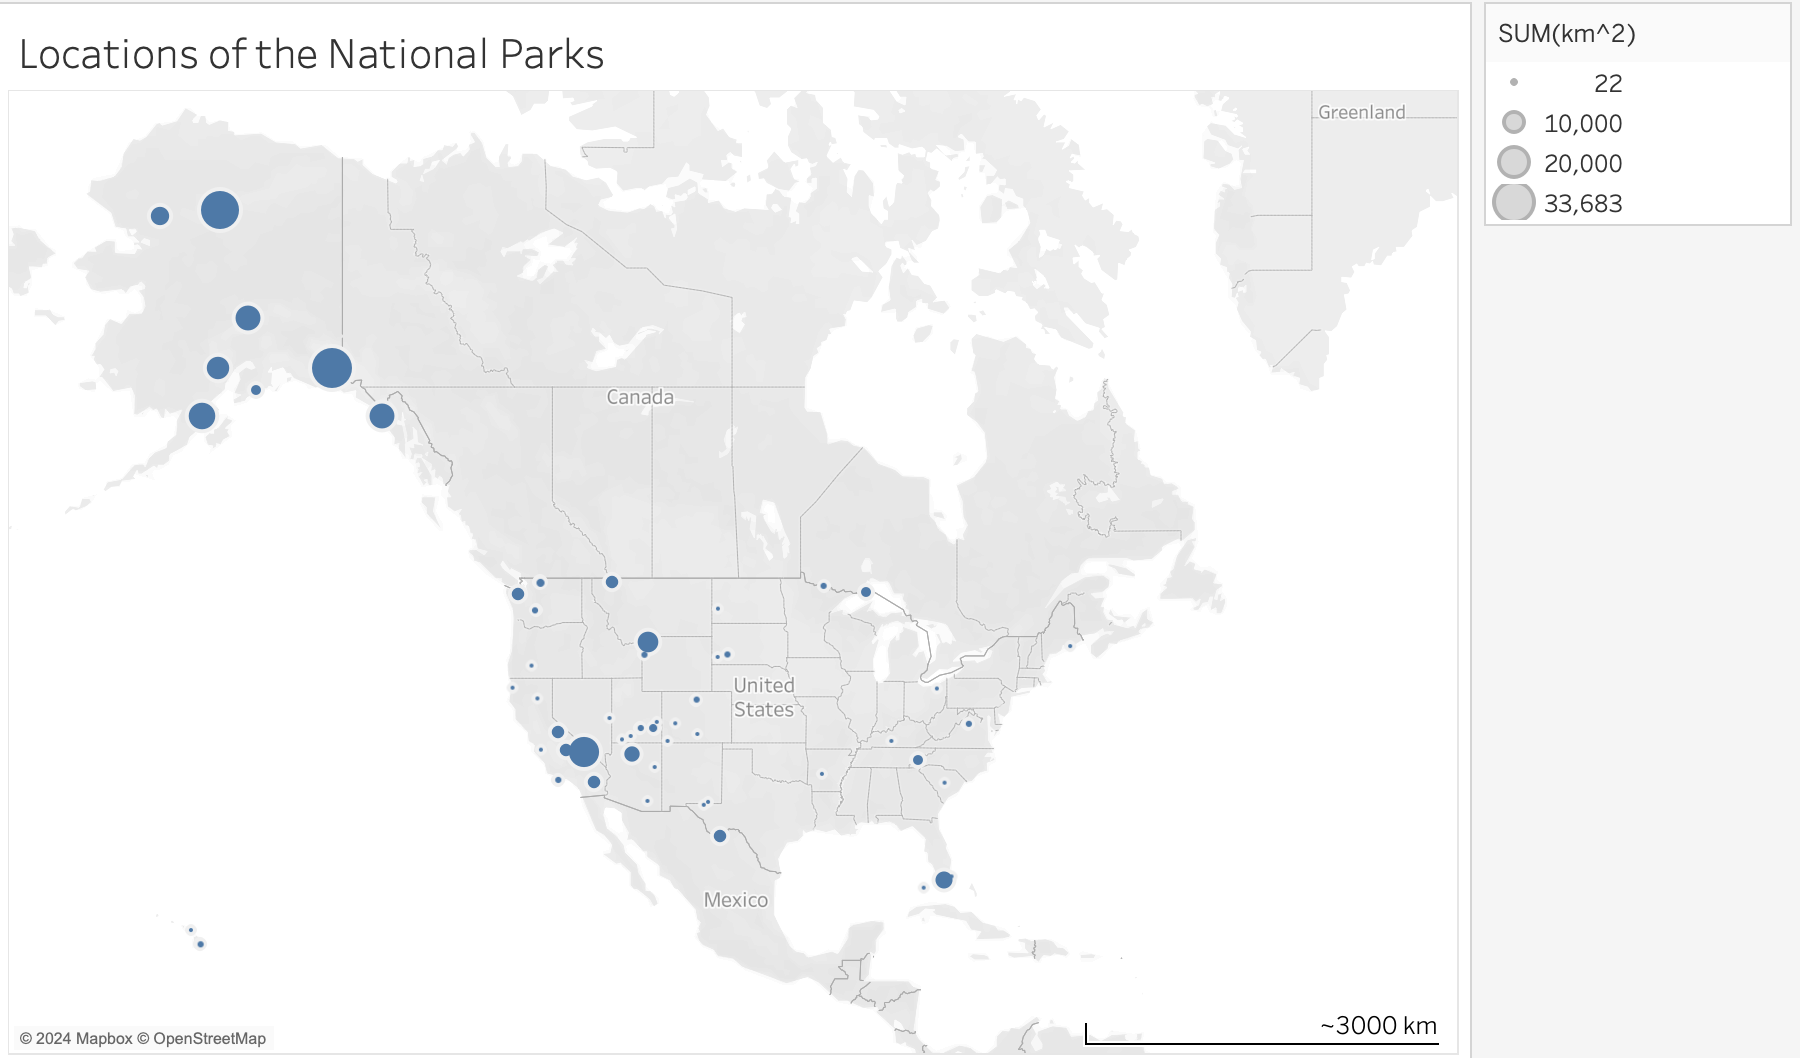

The dashboard page shown, as its layout file describes it:
{"tool":"tableau","page":{"name":"Dashboard 1","canvas":[1000,800],"ordinal":0},"visuals":[{"type":"worksheet","title":"us_parks_locations","mark":"Automatic","rows":["Latitude"],"cols":["Longitude"],"box":[8,8,824,784]},{"type":"legend","title":"us_parks_locations","param":"[federated.0cdlst71lt6bko19hse2d0mgkbwd].[sum:Calculation_2699907986871406592:qk","box":[831,8,162,237]}]}

Visuals, with their boxes in screenshot pixels (x1, y1, x2, y2):
"us_parks_locations" worksheet: left=423, top=48, right=1461, bottom=1035
"us_parks_locations" legend: left=1459, top=48, right=1663, bottom=346
